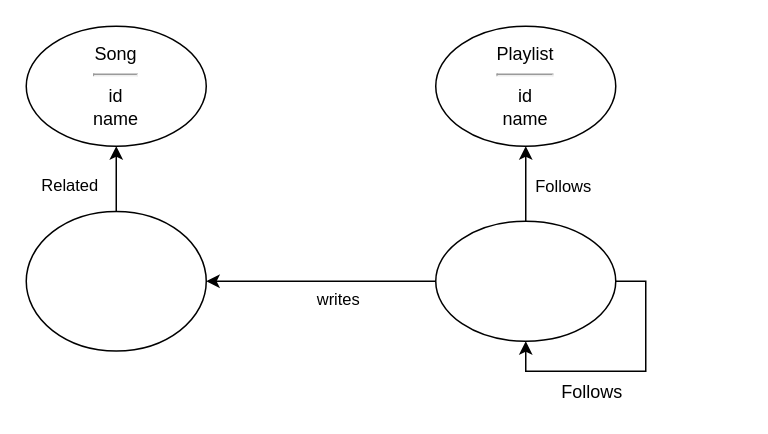
Some shapes in this 768 by 434 pixel diagram are drawn without their labels. The shapes that lost their labels are listed below. From the top down, each one's centre as x and y in pixels, then its label:
At (115,280): "Comment id text vote date".
At (525,280): "User id username".
